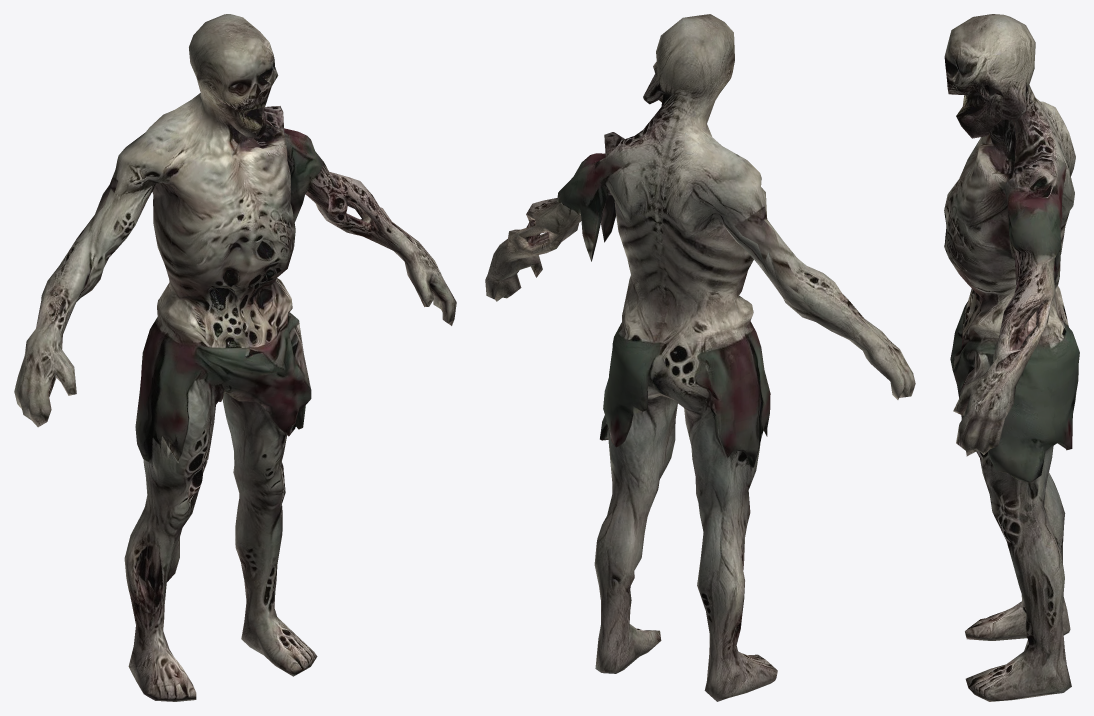
The model's file is texture-web.glb.
3 views of the same model, side by side, from view 1: azimuth 30°, elevation 25°; view 2: azimuth 150°, elevation 25°; view 3: azimuth 270°, elevation 25° (orthographic). The views are drawn at different scales.
Parts seen in each view (by area): view 1: Mesh_0; view 2: Mesh_0; view 3: Mesh_0.
Part boxes in pixels (x1,y1,x2,y2): Mesh_0: [14, 14, 456, 701]; Mesh_0: [485, 14, 915, 701]; Mesh_0: [944, 14, 1079, 701].
Size of the model in its own units: 1.31 by 1.92 by 0.3646.
Materials: 1 (1 with a texture image).
